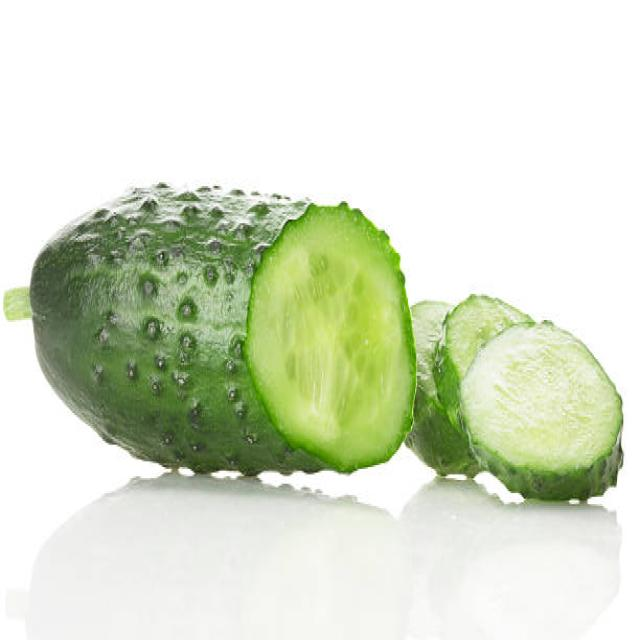cucumber: (29, 178, 418, 474)
